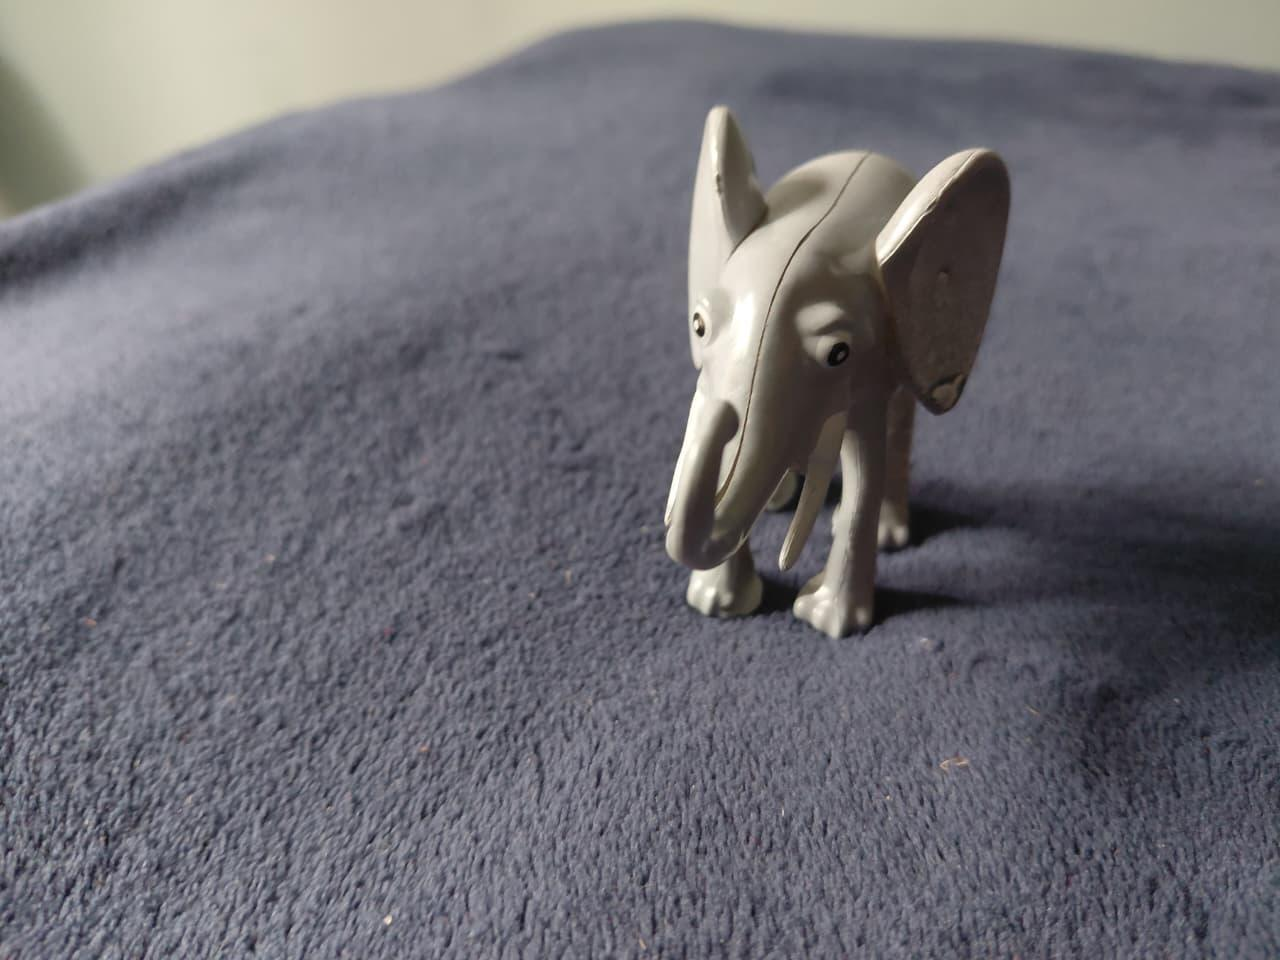elephant: (662, 77, 1011, 656)
